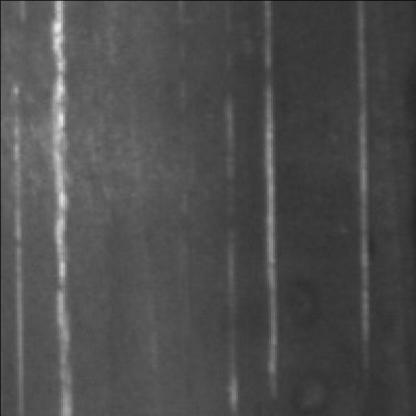scratches: (39, 4, 75, 416), (249, 2, 285, 387), (348, 2, 372, 370)
